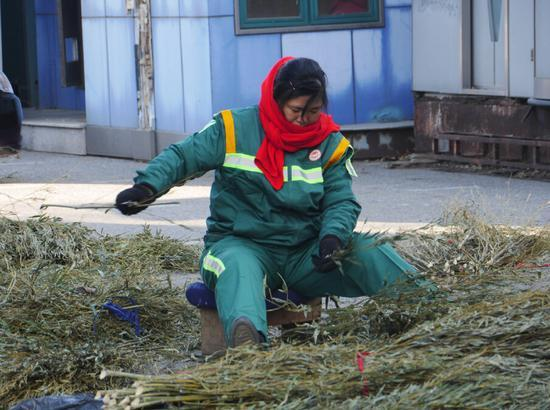WRONG: (285, 96, 326, 137)
